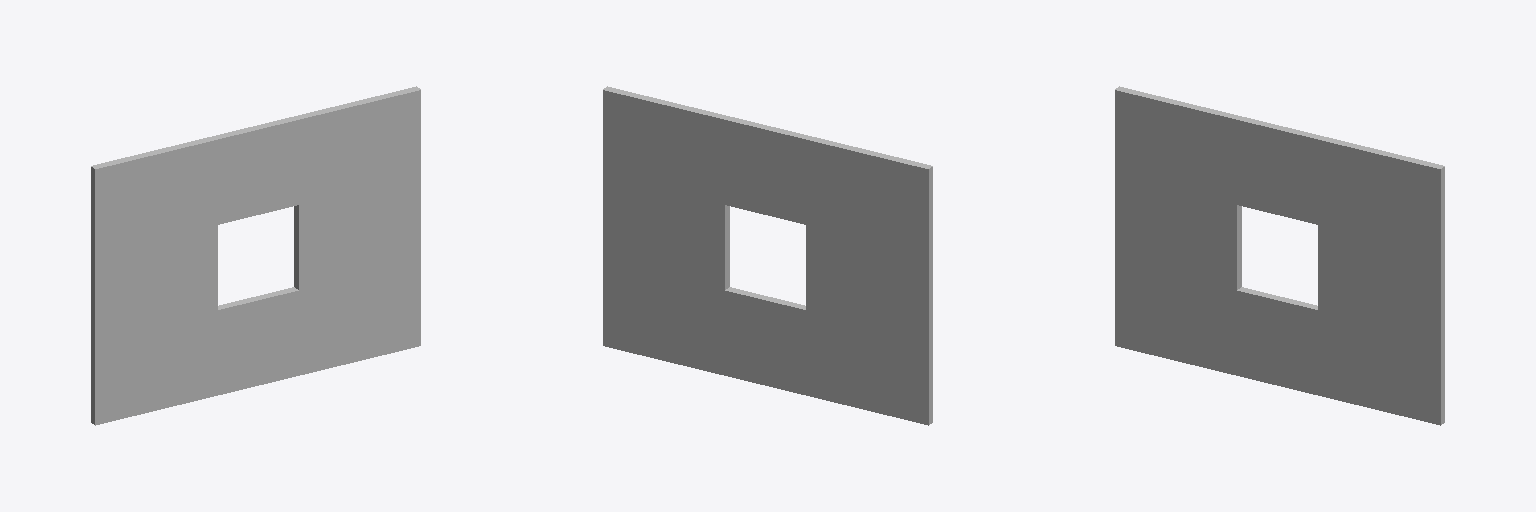
The model's file is ParedVentana.obj.
The picture shows the model from 3 angles: view 1: azimuth 30°, elevation 25°; view 2: azimuth 150°, elevation 25°; view 3: azimuth 330°, elevation 25°; orthographic projection.
Size of the model in its own units: 4 by 3 by 0.1.